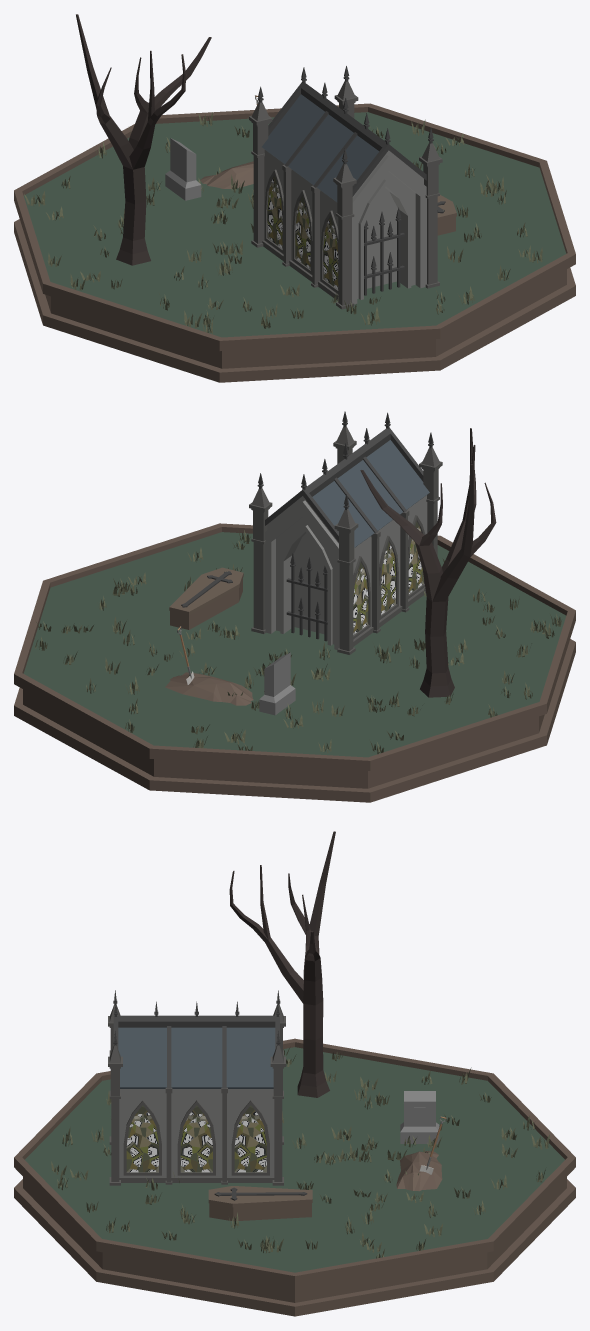
File: Demo_Scene.obj
3 renders of one model, top to bottom at view 1: azimuth 30°, elevation 25°; view 2: azimuth 150°, elevation 25°; view 3: azimuth 270°, elevation 25°, orthographic. The views are drawn at different scales.
Visible parts, largest first — view 1: Cylinder, Crypt_3, Dead_Tree_1, Grass, Headstone_3, Ground, Coffin_1; view 2: Cylinder, Crypt_3, Dead_Tree_1, Grass, Coffin_1, Ground, Headstone_3; view 3: Cylinder, Crypt_3, Dead_Tree_1, Grass, Coffin_1, Headstone_3, Ground.
Boxes of the visible parts, x1,y1,x2,y2 form: Cylinder: (14, 103, 575, 382); Crypt_3: (249, 66, 442, 309); Dead_Tree_1: (76, 14, 211, 265); Grass: (24, 112, 542, 334); Headstone_3: (165, 138, 201, 200); Ground: (200, 161, 253, 188); Coffin_1: (437, 195, 456, 235); Cylinder: (14, 523, 575, 802); Crypt_3: (249, 411, 442, 654); Dead_Tree_1: (360, 428, 496, 697); Grass: (35, 530, 561, 753); Coffin_1: (169, 567, 243, 629); Ground: (165, 672, 253, 705); Headstone_3: (259, 652, 295, 715); Cylinder: (14, 1038, 575, 1316); Crypt_3: (108, 990, 285, 1185); Dead_Tree_1: (229, 831, 335, 1097); Grass: (51, 1048, 549, 1258); Coffin_1: (208, 1186, 312, 1221); Headstone_3: (400, 1091, 439, 1143); Ground: (396, 1151, 442, 1191).
Bounding box in the file's own units: 790 × 423 × 790.
